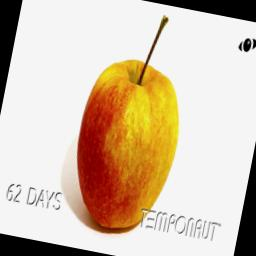Apple Ripe: (62, 0, 204, 239)
